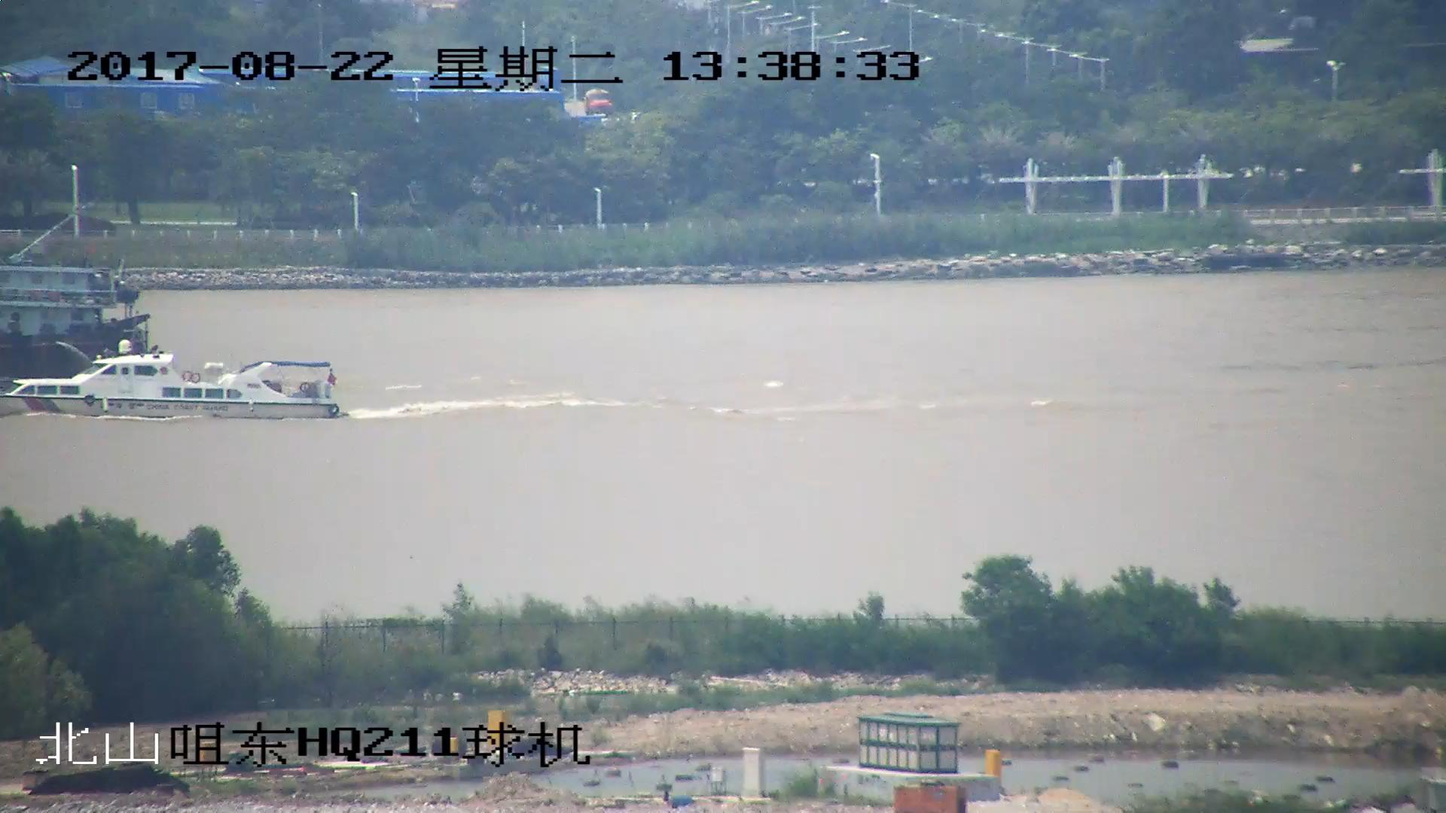bulk cargo carrier: (0, 240, 164, 386)
passenger ship: (2, 328, 342, 423)
